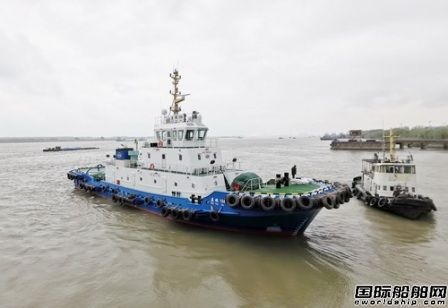otherboat: (63, 68, 352, 235), (351, 123, 437, 218)
